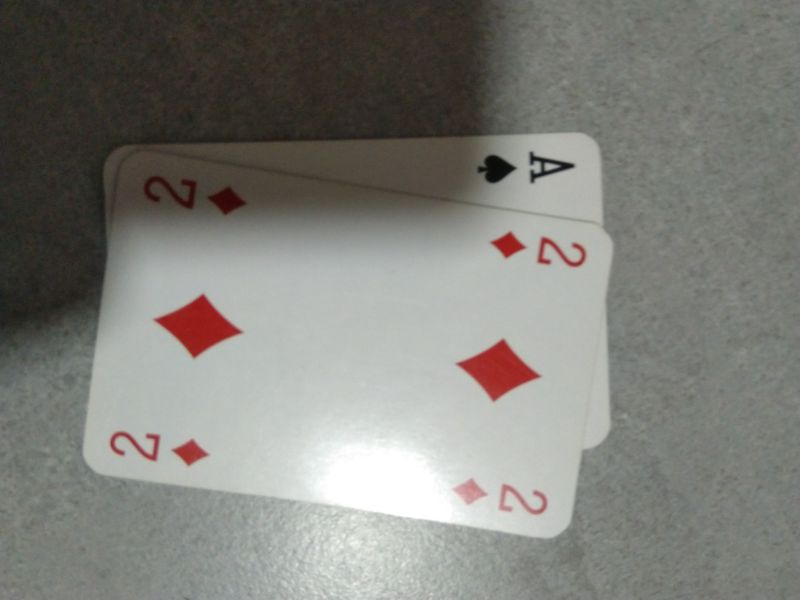2d: (137, 165, 250, 220), (448, 471, 552, 524), (485, 222, 590, 272), (104, 424, 214, 470)
As: (471, 144, 582, 187)
